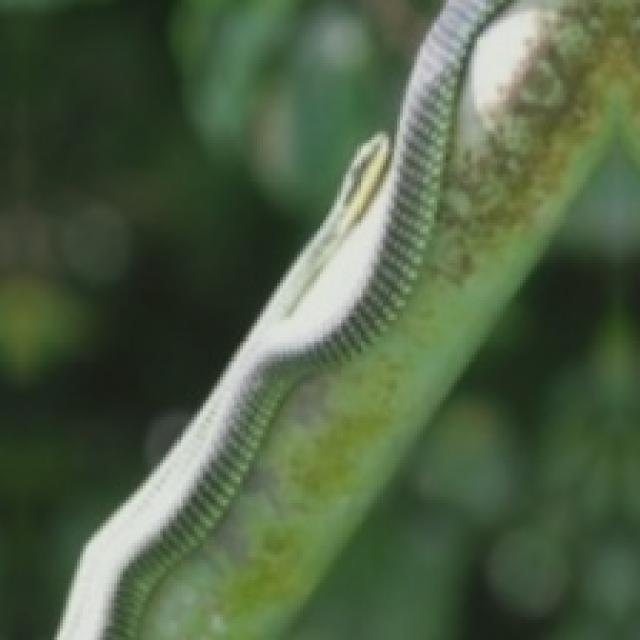paradise tree snake: (0, 0, 440, 637), (283, 149, 637, 637)
